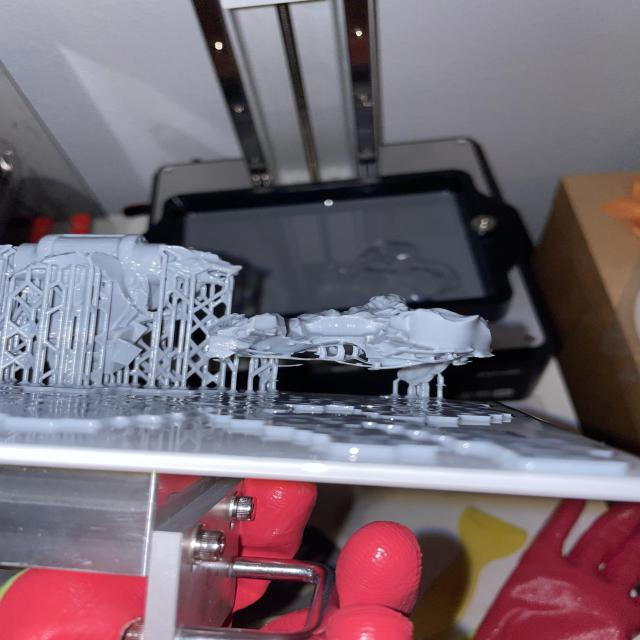Without deffect: (9, 226, 522, 447)
